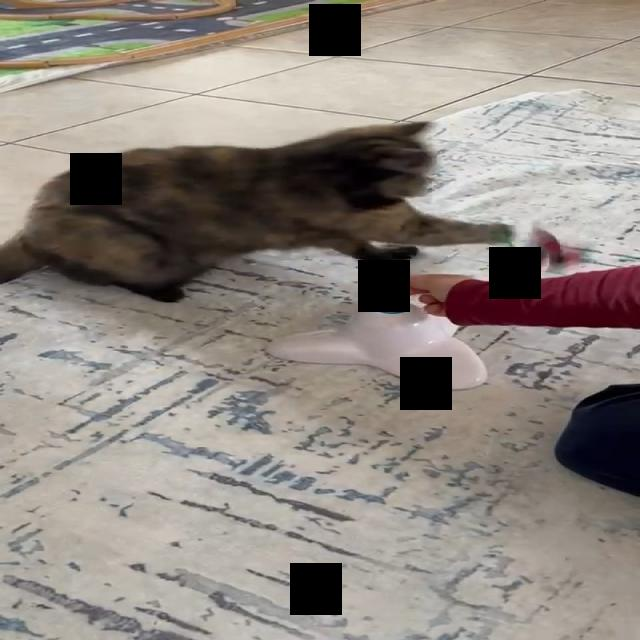authorized: (0, 120, 516, 304)
